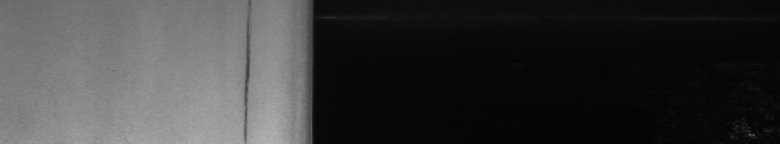hd: (240, 4, 256, 136)
